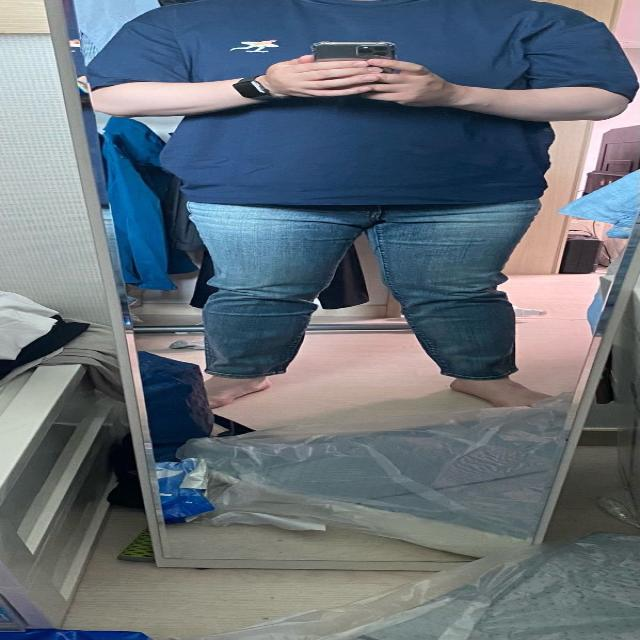denimpants: (182, 196, 542, 379)
shortsleeve: (90, 0, 640, 210)
